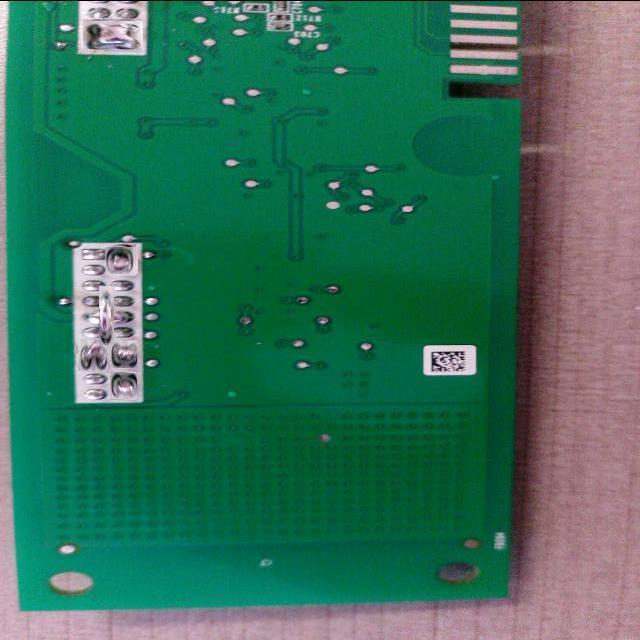Short_circuit: (82, 20, 143, 50), (87, 297, 125, 335), (76, 340, 108, 371), (107, 245, 137, 275), (108, 340, 137, 369), (110, 372, 137, 400)
